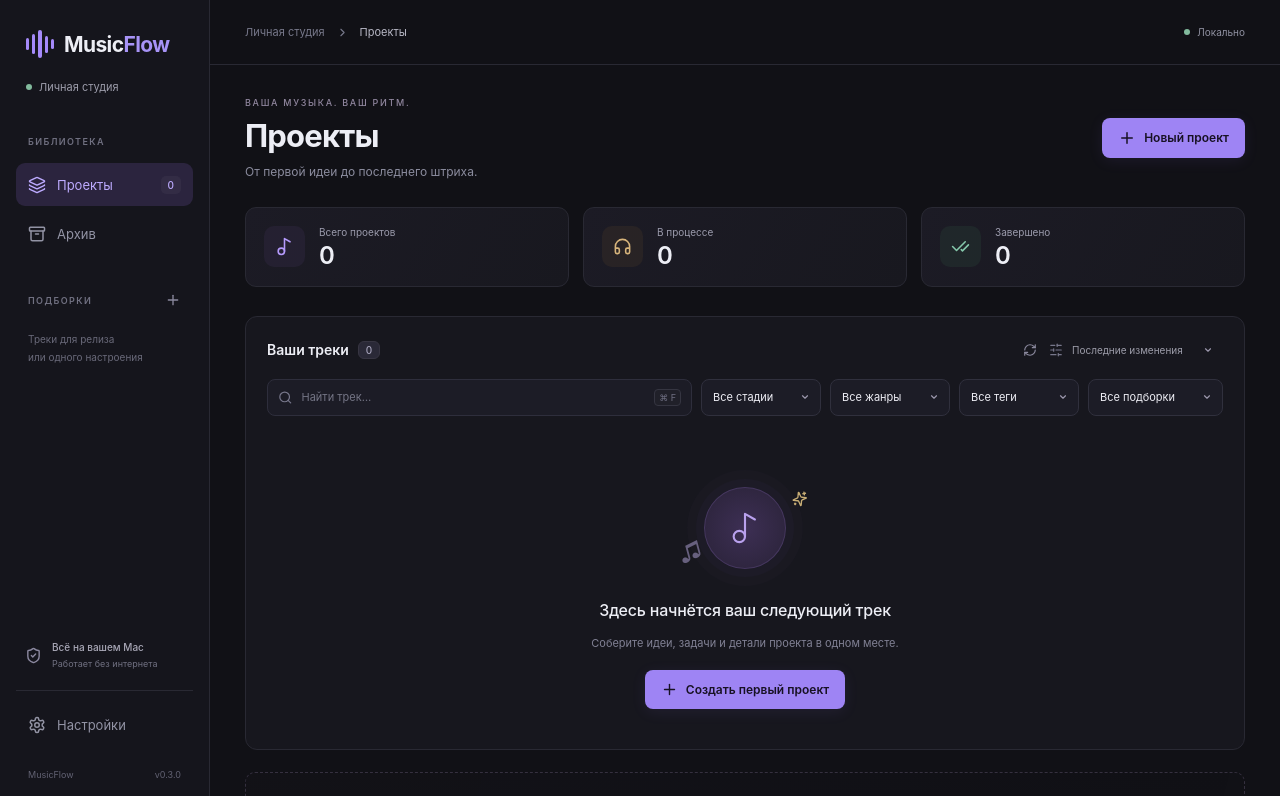
Test: MusicFlow interaction › creates a collection from the sidebar manager
Expected: the button "Создать первый проект" is shown, [645, 670, 845, 709]
Step 1. Click the button named "Управлять подборками" → (173, 300), box [159, 286, 187, 314]
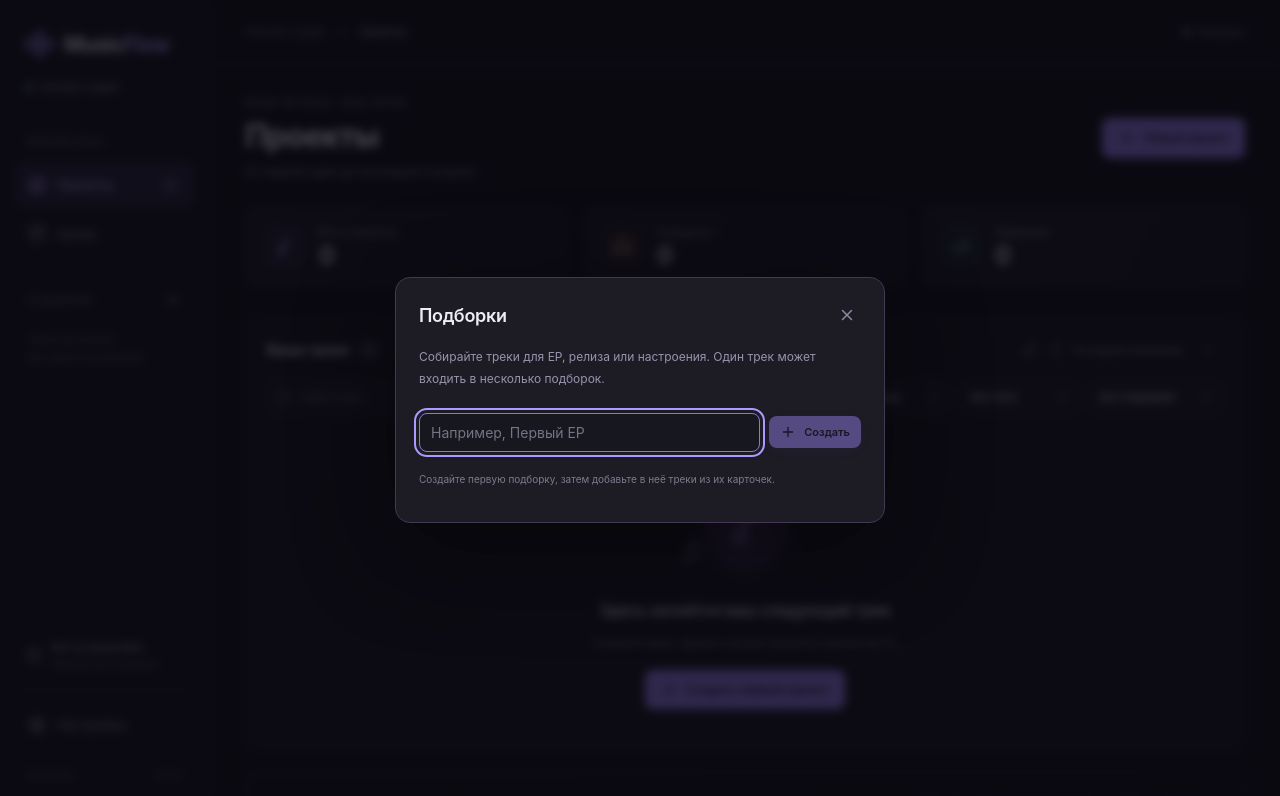
Step 2. Type "EP 2026" into the field named "Название новой подборки" → (590, 432), box [419, 413, 760, 452]
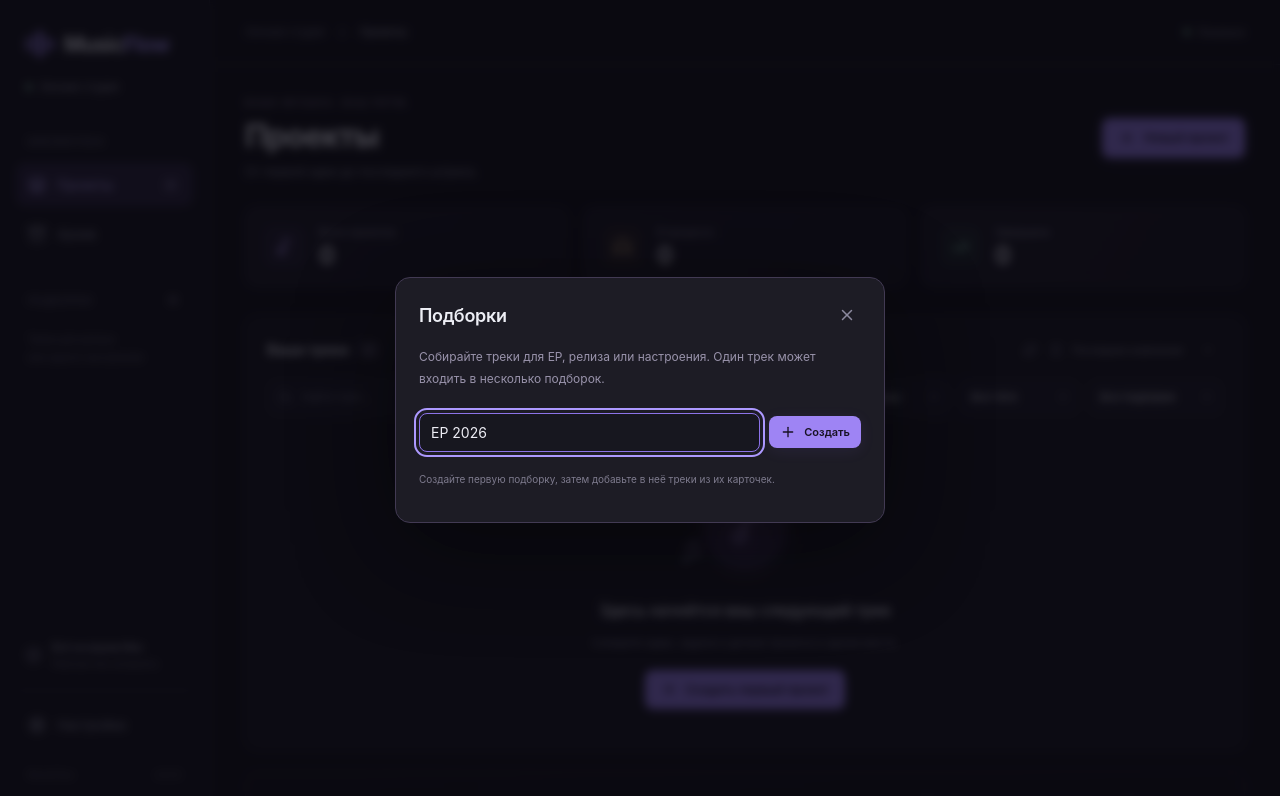
Step 3. Click the button "Создать" → (815, 432), box [769, 416, 861, 448]
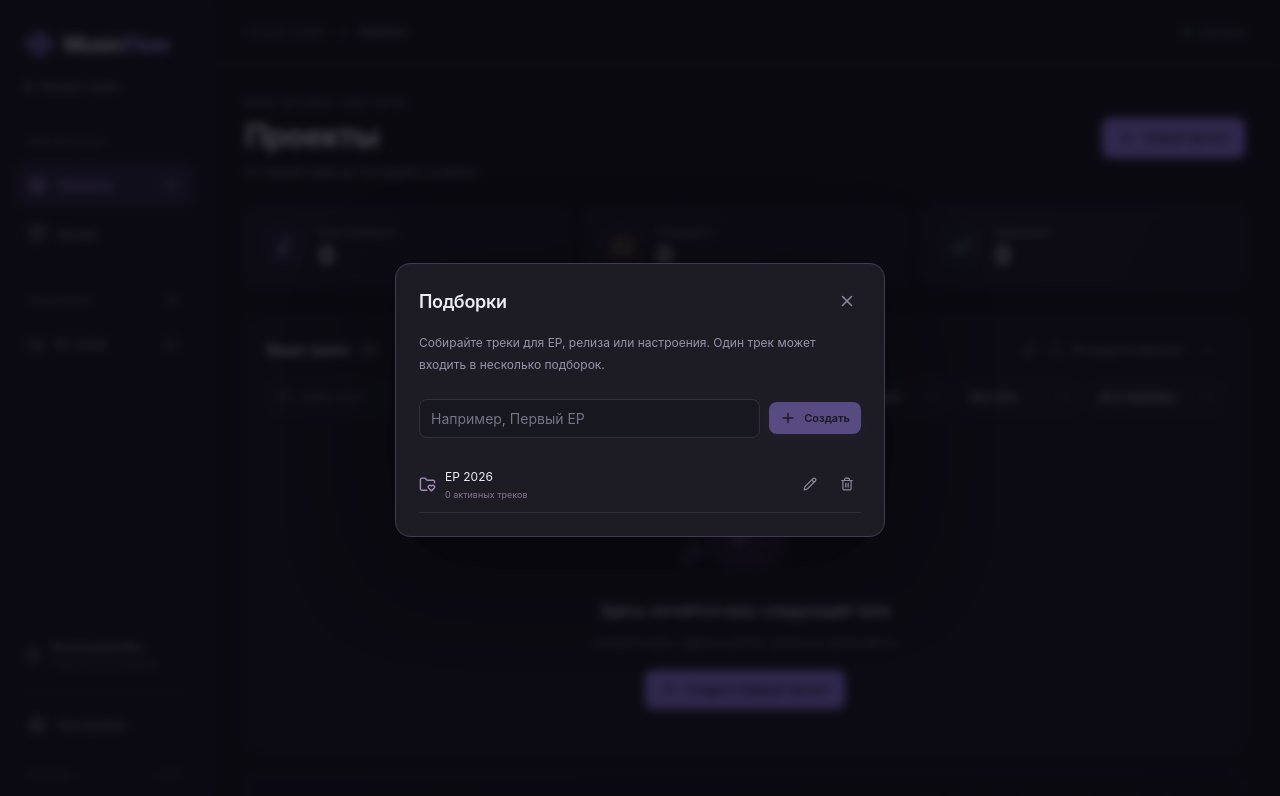
Now the button named "Переименовать подборку: EP 2026" is shown, box [796, 470, 824, 498]
